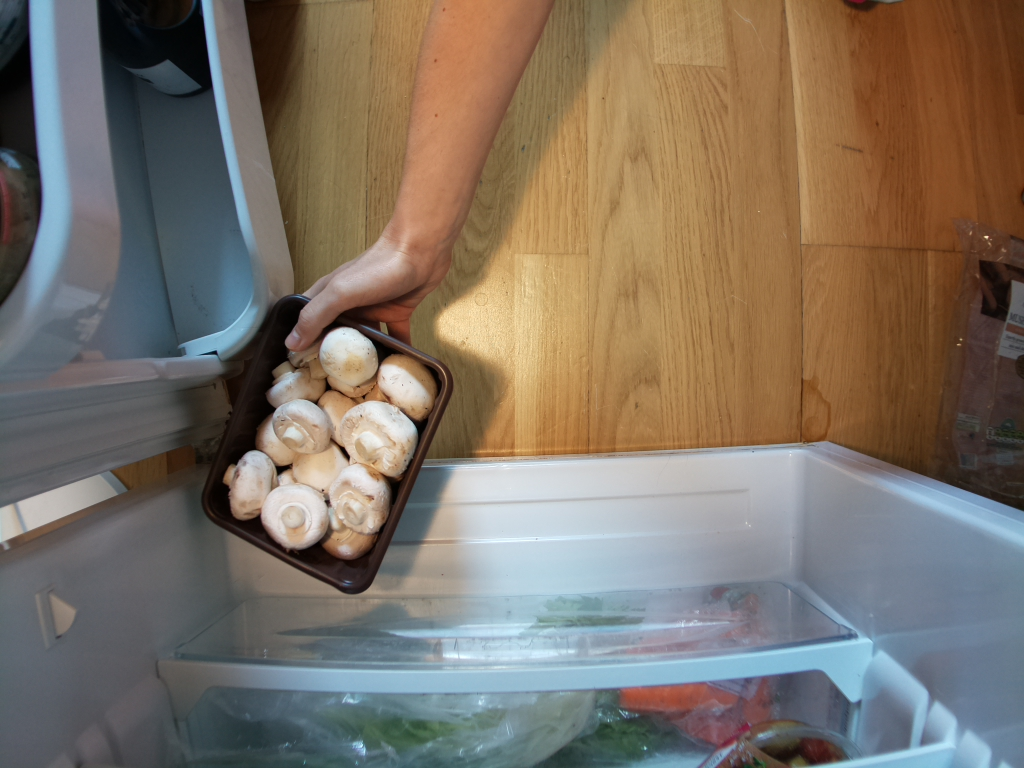mushrooms: (199, 286, 452, 602)
